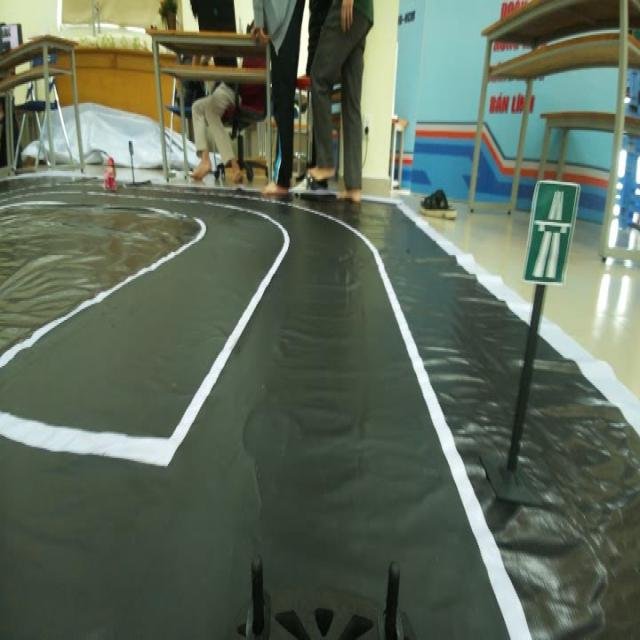highway_entry: (518, 169, 582, 301)
